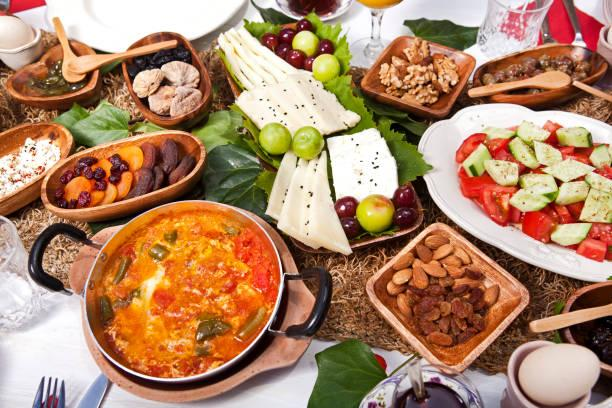Braised Crucian Carp: (40, 201, 327, 389), (419, 102, 611, 280), (369, 216, 529, 368), (118, 26, 216, 131), (44, 143, 198, 208), (360, 35, 473, 120), (467, 44, 605, 108), (0, 120, 73, 217), (5, 38, 101, 111)
